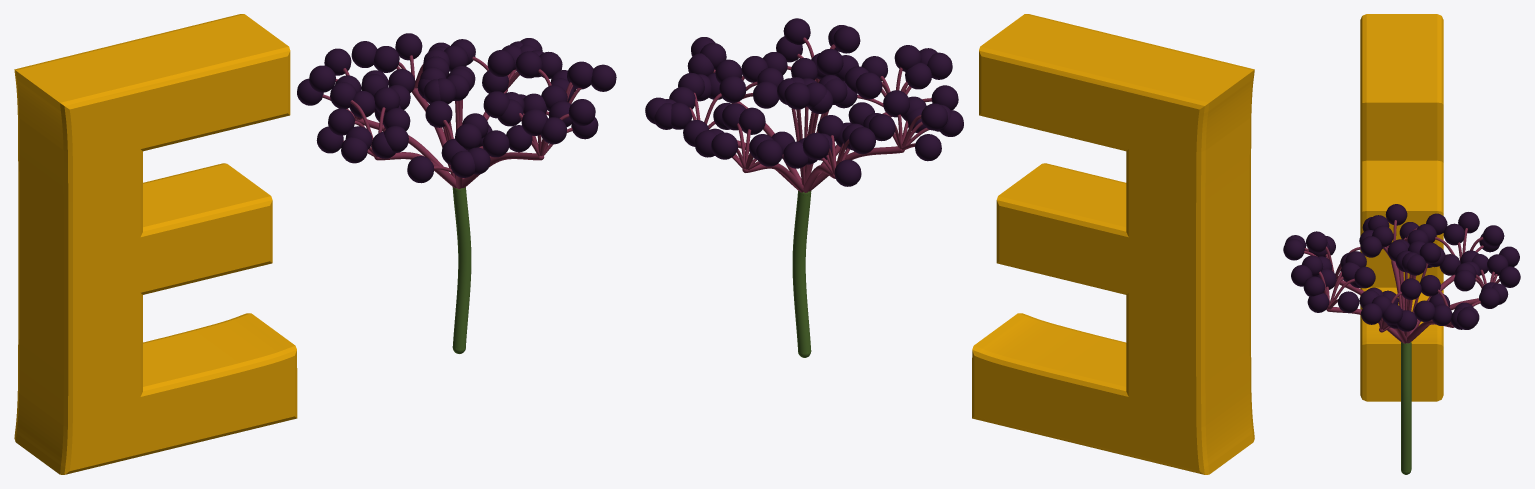
Rendered from elderberry-ar.glb.
3 views of the same model, side by side, from view 1: azimuth 30°, elevation 25°; view 2: azimuth 150°, elevation 25°; view 3: azimuth 270°, elevation 25° (orthographic). The views are drawn at different scales.
Visible parts, largest first — view 1: Letter E, Elderberries; view 2: Letter E, Elderberries; view 3: Letter E, Elderberries.
Boxes of the visible parts, x1,y1,x2,y2 form: Letter E: (14,14,297,474); Elderberries: (297,33,616,353); Letter E: (972,14,1254,474); Elderberries: (645,18,963,357); Letter E: (1360,14,1443,401); Elderberries: (1283,204,1520,474).
Size of the model in its own units: 0.4017 by 0.2564 by 0.1862.
